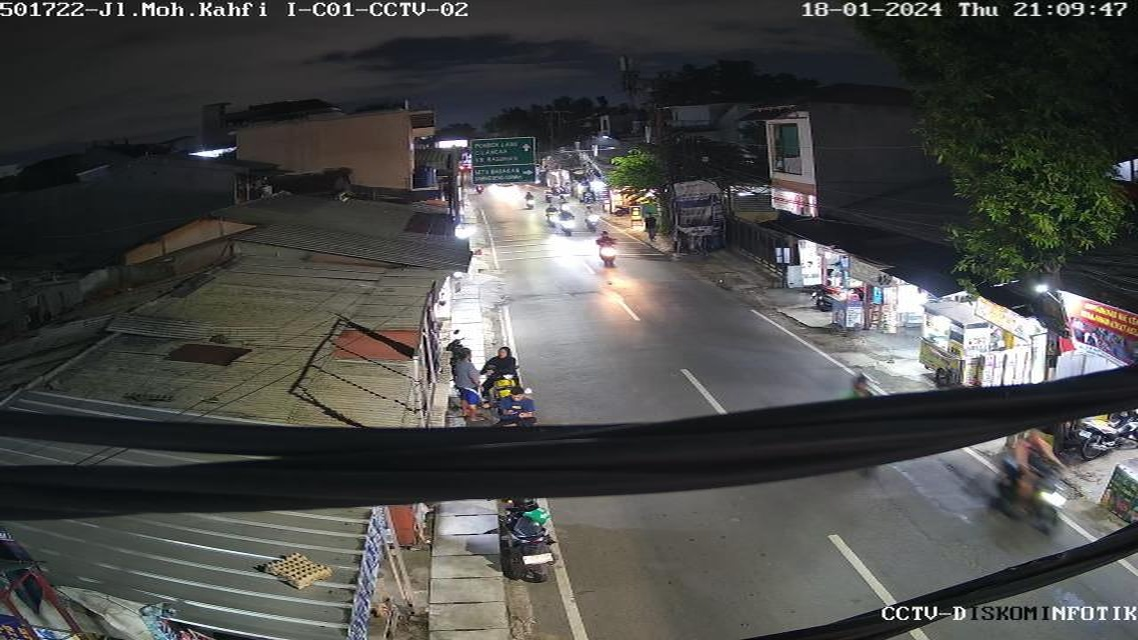Gerobak: (914, 298, 998, 387), (830, 268, 871, 330)
